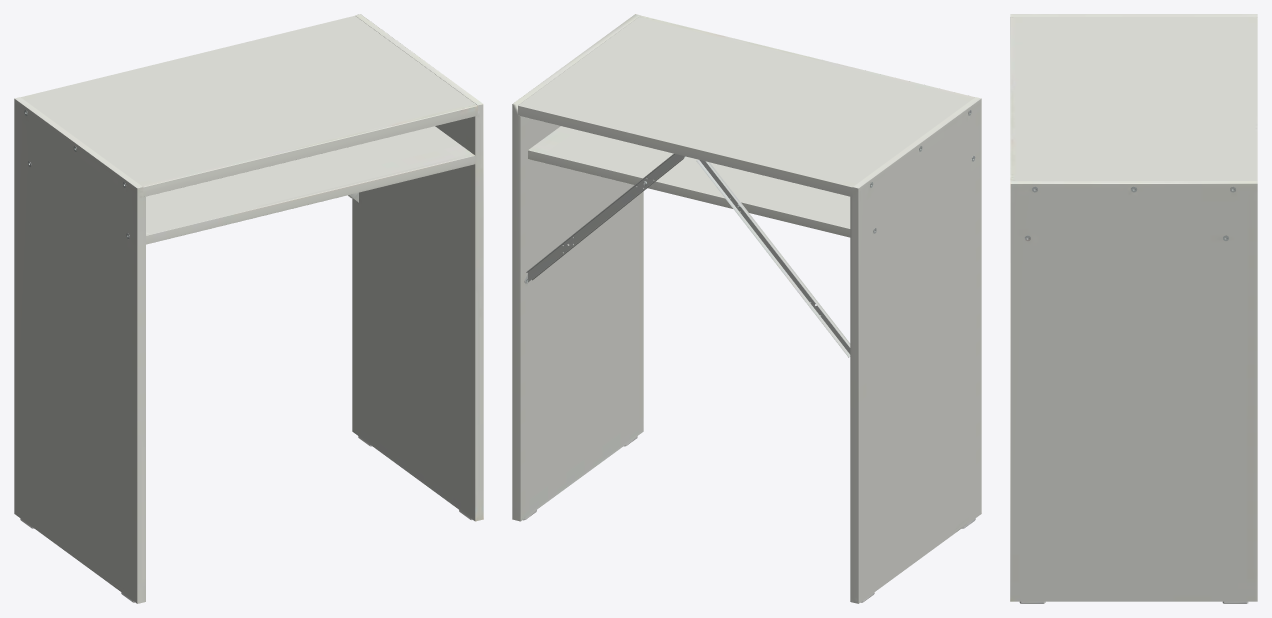
3 views of the same model, side by side, from view 1: azimuth 30°, elevation 25°; view 2: azimuth 150°, elevation 25°; view 3: azimuth 270°, elevation 25° (orthographic).
Parts seen in each view (by area): view 1: model; view 2: model; view 3: model.
Part boxes in pixels (x1=…): model: x1=14, y1=14, x2=483, y2=603; model: x1=512, y1=14, x2=981, y2=603; model: x1=1010, y1=14, x2=1257, y2=603.
Bounding box in the file's own units: 0.6529 × 0.75 × 0.4001.
Materials: 1 (1 with a texture image).
